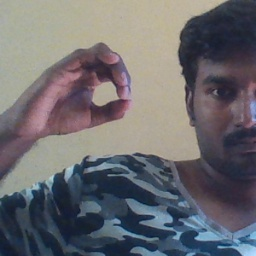O: (13, 41, 138, 140)
